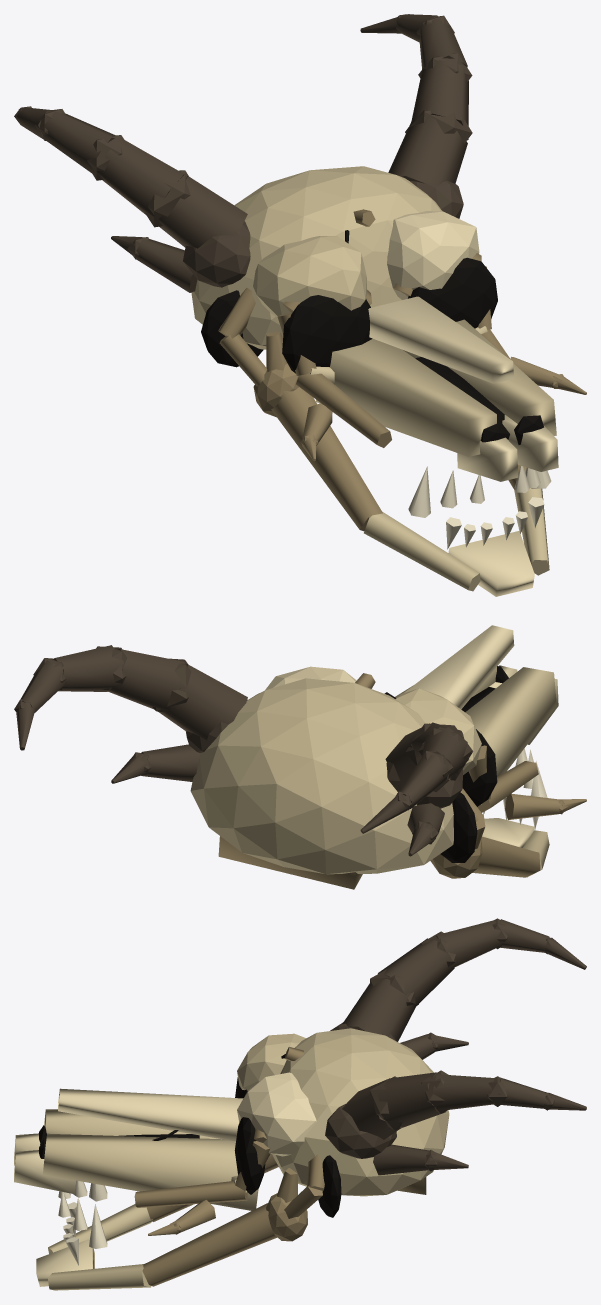
File: dragon_skull.glb
3 renders of one model, top to bottom at view 1: azimuth 30°, elevation 25°; view 2: azimuth 150°, elevation 25°; view 3: azimuth 270°, elevation 25°, orthographic. The views are drawn at different scales.
Parts seen in each view (by area): view 1: braincase, maxillaL, frontalPlateL, nasalBridge, frontalPlateR, eyeSocketL, mandibleRear-1, horn_R_0, jawChin, horn_L_0, eyeSocketR, horn_L_1 (+20 smaller); view 2: braincase, maxillaL, nasalBridge, horn_R_0, horn_R_1, horn_R_2, frontalPlateL, mandibleRear-1, horn_R2_0, temporalFenestraL, occipitalPlate, horn_L_3 (+21 smaller); view 3: braincase, maxillaR, nasalBridge, frontalPlateR, mandibleRear1, horn_L_0, horn_L_1, horn_R_1, maxillaL, mandibleFront1, cheekArch1, frontalPlateL (+21 smaller).
Part boxes in pixels (box(x1,y1,x2,y2)): braincase: box(191, 166, 442, 349); maxillaL: box(316, 339, 496, 456); frontalPlateL: box(253, 236, 366, 317); nasalBridge: box(368, 296, 514, 383); frontalPlateR: box(387, 211, 479, 299); eyeSocketL: box(282, 295, 372, 373); mandibleRear-1: box(271, 387, 382, 531); horn_R_0: box(388, 117, 467, 185); jawChin: box(448, 531, 534, 596); horn_L_0: box(158, 176, 247, 248); eyeSocketR: box(408, 257, 497, 328); horn_L_1: box(96, 138, 184, 216); braincase: box(190, 678, 453, 874); maxillaL: box(465, 667, 556, 776); nasalBridge: box(404, 625, 514, 709); horn_R_0: box(158, 664, 247, 740); horn_R_1: box(108, 648, 185, 711); horn_R_2: box(52, 645, 123, 691); frontalPlateL: box(395, 688, 481, 774); mandibleRear-1: box(472, 836, 540, 877); horn_R2_0: box(141, 744, 199, 781); temporalFenestraL: box(440, 792, 477, 862); occipitalPlate: box(218, 836, 362, 889); horn_L_3: box(399, 755, 448, 808); braincase: box(272, 1028, 449, 1196); maxillaR: box(43, 1133, 258, 1210); nasalBridge: box(58, 1088, 243, 1141); frontalPlateR: box(237, 1072, 316, 1156); mandibleRear1: box(142, 1203, 277, 1286); horn_L_0: box(342, 979, 415, 1041); horn_L_1: box(378, 938, 454, 1008); horn_R_1: box(378, 1072, 446, 1127); maxillaL: box(44, 1109, 221, 1139); mandibleFront1: box(48, 1264, 151, 1290); cheekArch1: box(134, 1181, 247, 1207); frontalPlateL: box(237, 1033, 306, 1090).
Size of the model in its own units: 4.7 by 3.61 by 6.69.
